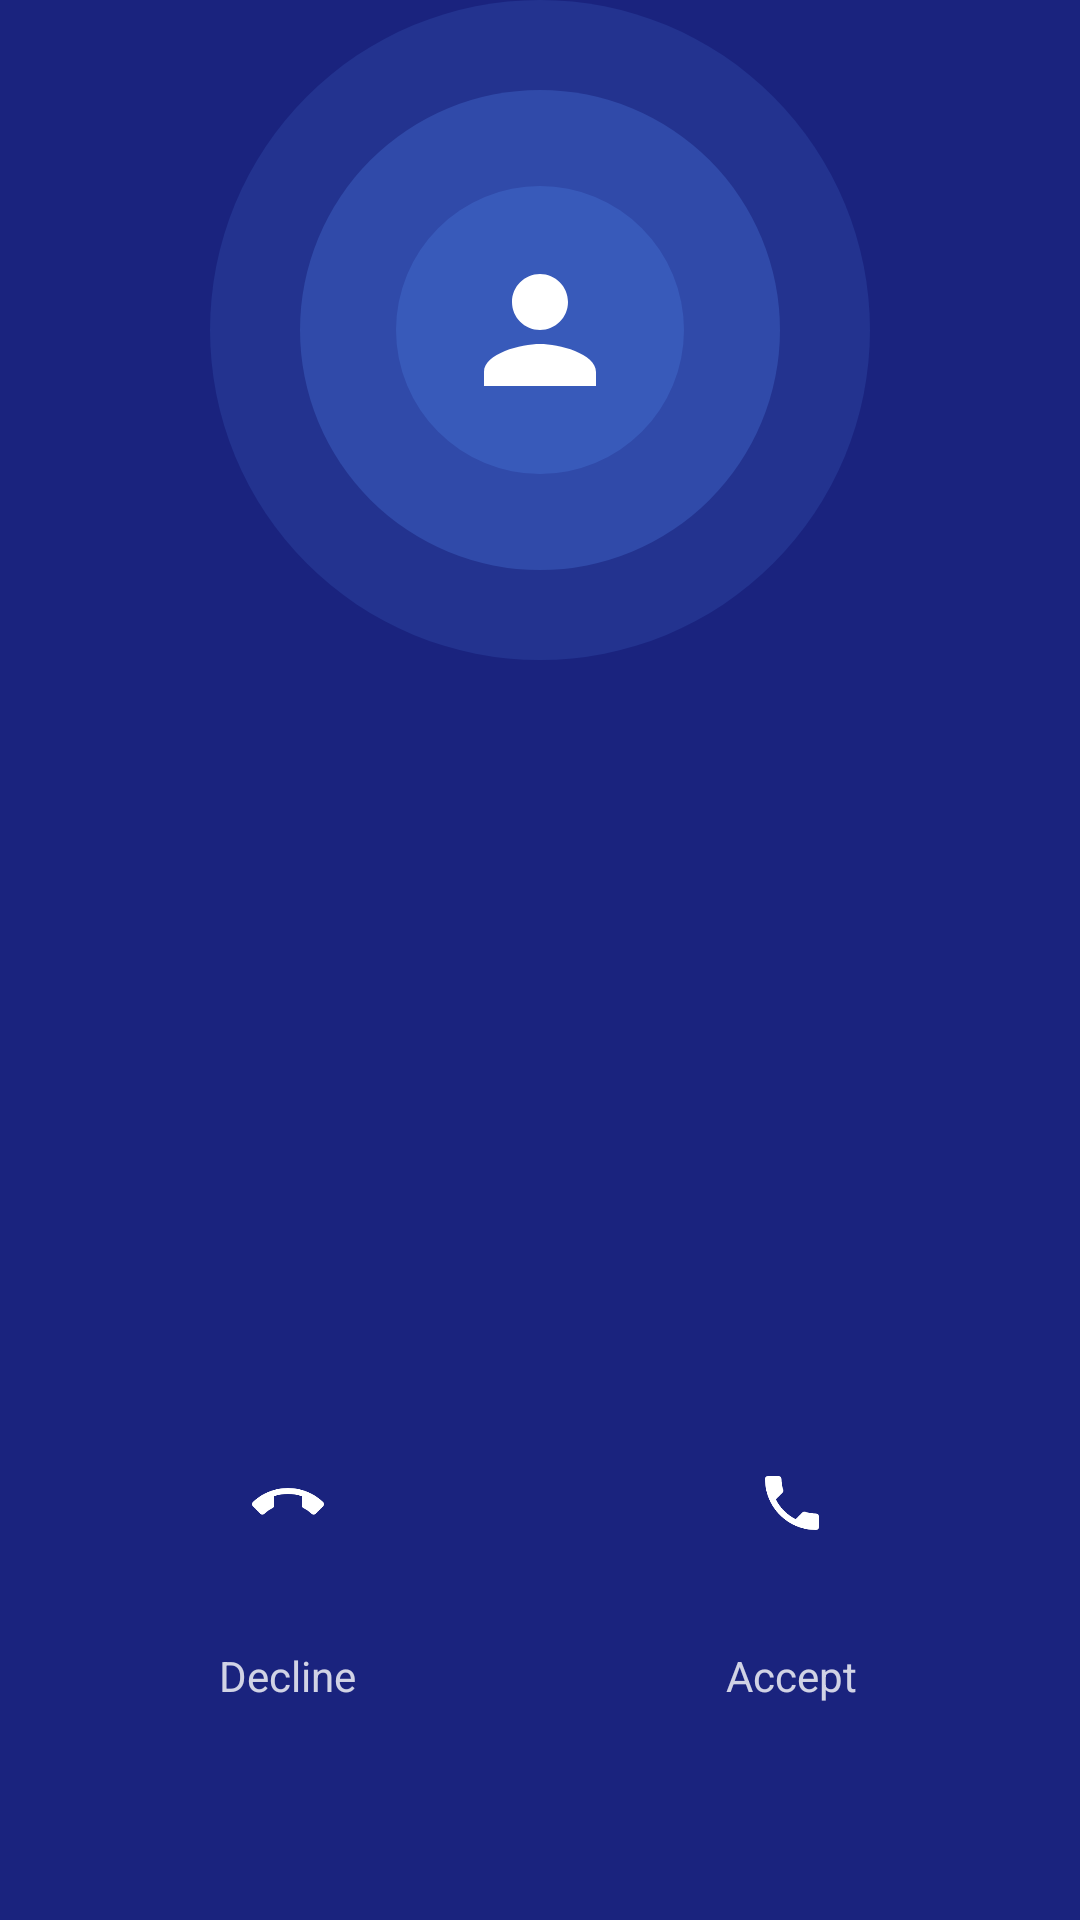

Screen size 1080px x 1920px. Icon name, then its center in pixels as (x,y):
person: (540,330)
Reject call: (288,1501)
